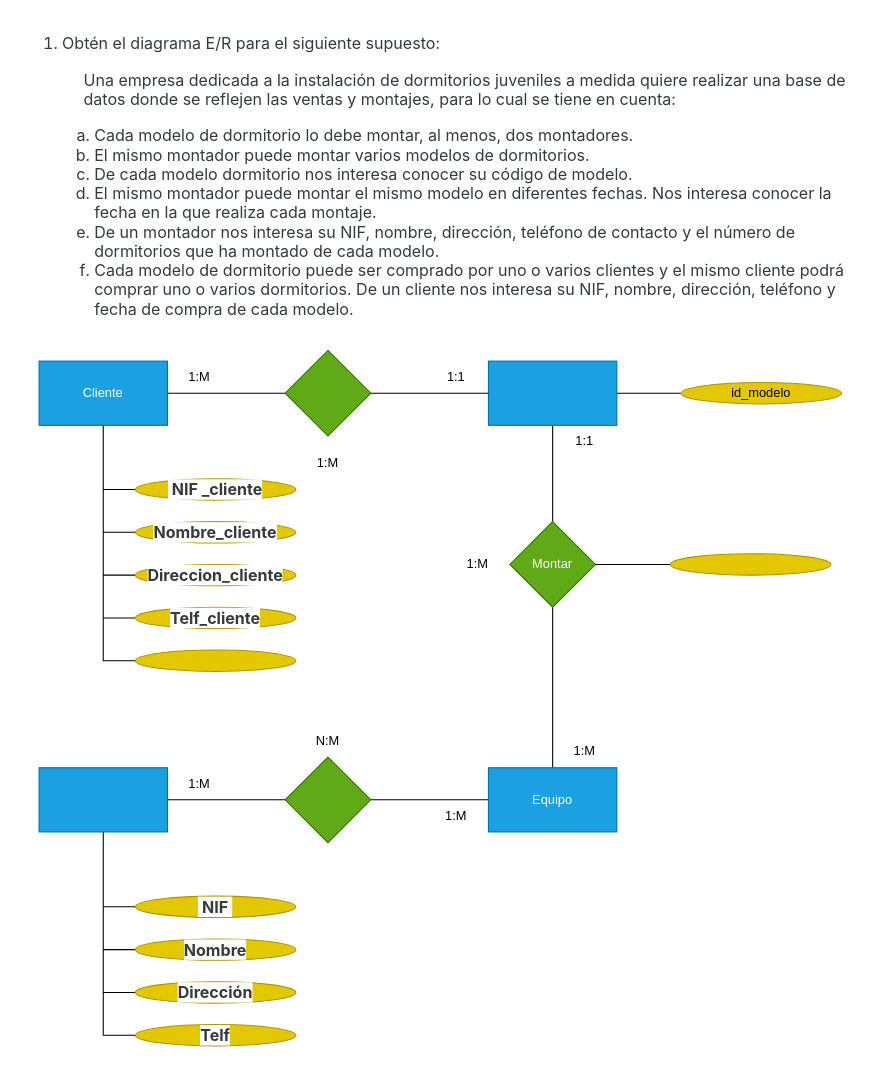
The diagram is 871 pixels wide and 1065 high, and some of its shapes have lost their labels. Here are the shapes that lost their labels. From the top down, the centre of each, then its label:
the point at 327,392: Compra
the point at 552,392: Dormitorio
the point at 750,564: fecha_montaje
the point at 215,660: Fecha_compra
the point at 102,799: Trabajador
the point at 327,799: Formado
